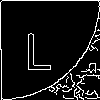L: (25, 25, 53, 70)
